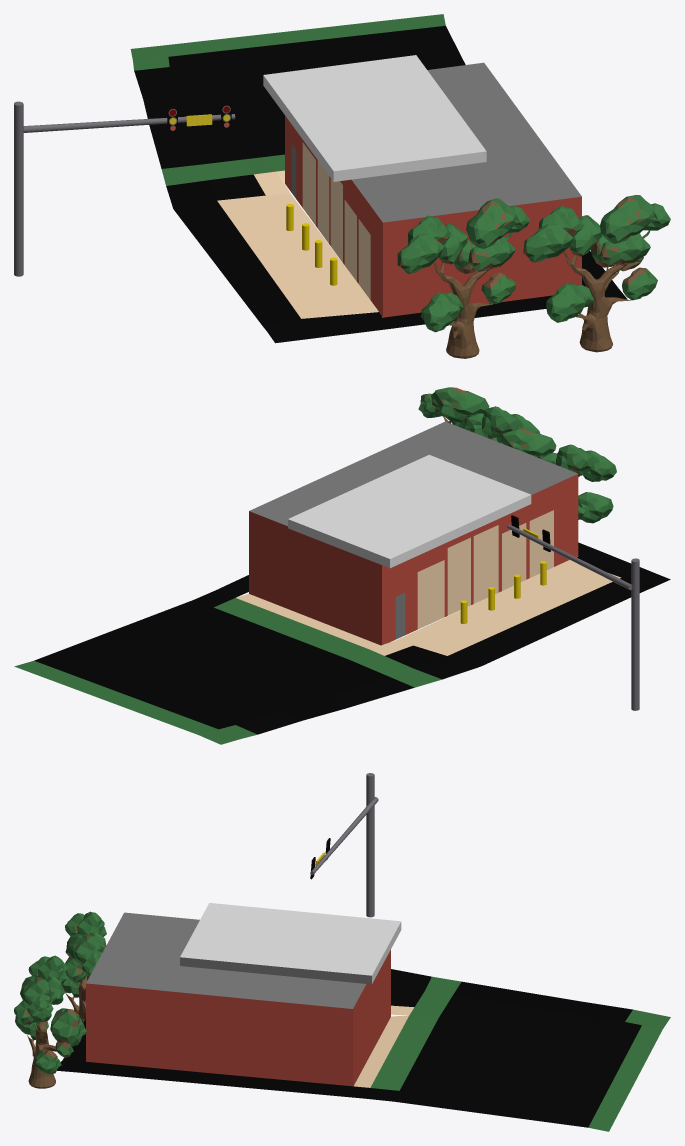
File: intfirehouse.glb
The picture shows the model from 3 angles, top to bottom: view 1: azimuth 30°, elevation 25°; view 2: azimuth 150°, elevation 25°; view 3: azimuth 270°, elevation 25°; orthographic projection. The views are drawn at different scales.
Parts seen in each view (by area): view 1: Cape Fire House, tree_Cube.004, tree_Cube.003; view 2: Cape Fire House, tree_Cube.003, tree_Cube.004; view 3: Cape Fire House, tree_Cube.004, tree_Cube.003.
Boxes of the visible parts, x1,y1,x2,y2 form: Cape Fire House: [14, 14, 627, 343]; tree_Cube.004: [523, 195, 670, 352]; tree_Cube.003: [397, 198, 529, 358]; Cape Fire House: [14, 421, 670, 744]; tree_Cube.003: [490, 429, 616, 523]; tree_Cube.004: [418, 387, 540, 438]; Cape Fire House: [57, 773, 670, 1131]; tree_Cube.004: [14, 955, 86, 1088]; tree_Cube.003: [62, 911, 106, 1022].
Size of the model in its own units: 0.1639 by 0.0522 by 0.1971.
